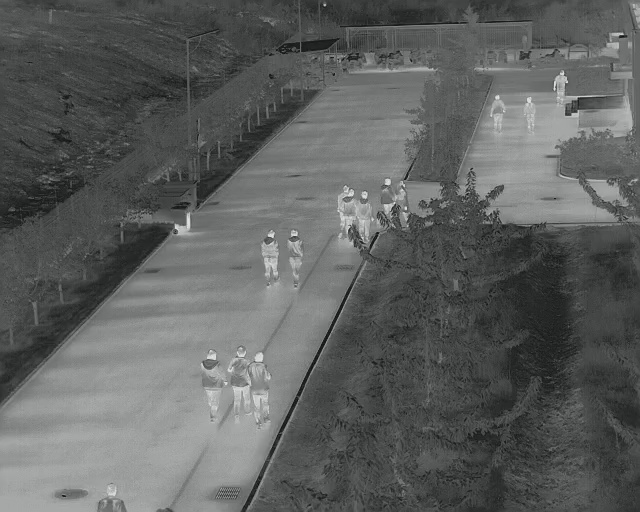person: (199, 348, 227, 423), (246, 351, 272, 431), (228, 345, 252, 423), (259, 228, 280, 291), (287, 227, 304, 289), (355, 189, 373, 244), (489, 94, 506, 135), (552, 68, 569, 108), (341, 187, 355, 230), (522, 95, 537, 135), (394, 179, 410, 214), (380, 177, 395, 209)
